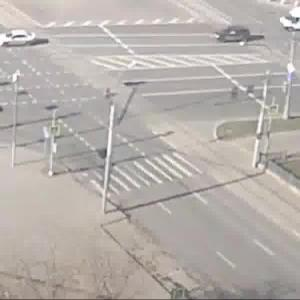car: (1, 30, 44, 49), (215, 27, 257, 45)
